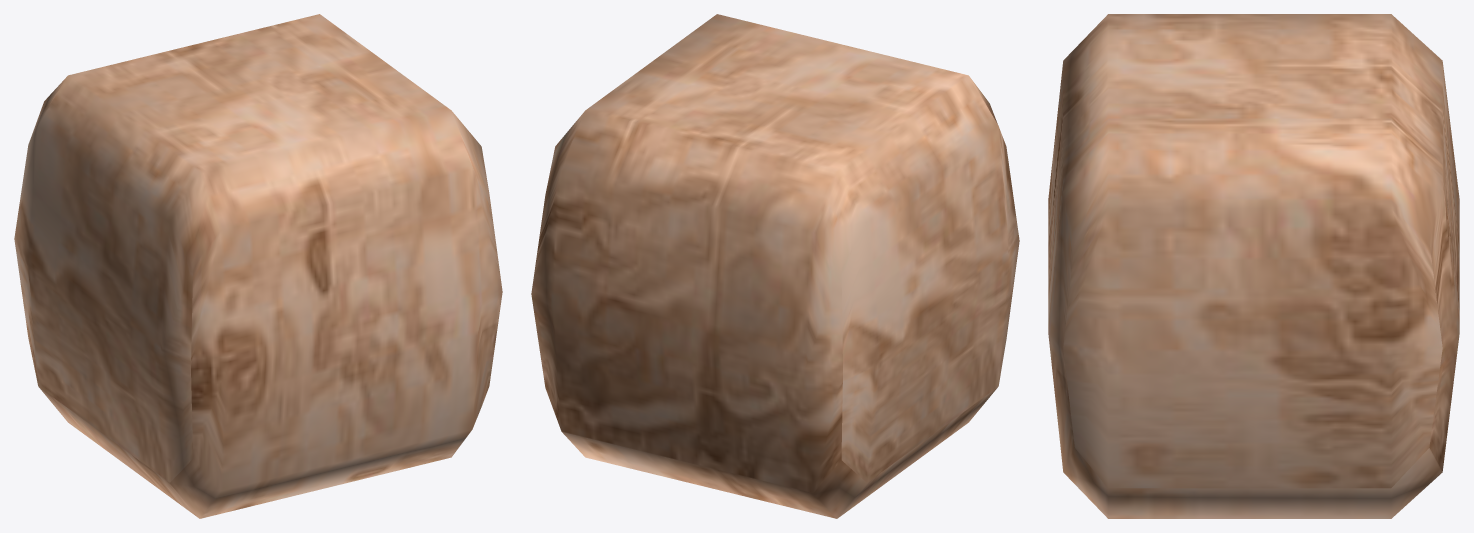
The model's file is RockyBlock.fbx.
3 renders of one model, left to right at view 1: azimuth 30°, elevation 25°; view 2: azimuth 150°, elevation 25°; view 3: azimuth 270°, elevation 25°, orthographic. The views are drawn at different scales.
Parts seen in each view (by area): view 1: pCube2; view 2: pCube2; view 3: pCube2.
Boxes of the visible parts, x1,y1,x2,y2 form: pCube2: (14, 14, 502, 518); pCube2: (531, 14, 1019, 518); pCube2: (1048, 14, 1459, 518).
Bounding box in the file's own units: 1 × 1 × 1.
